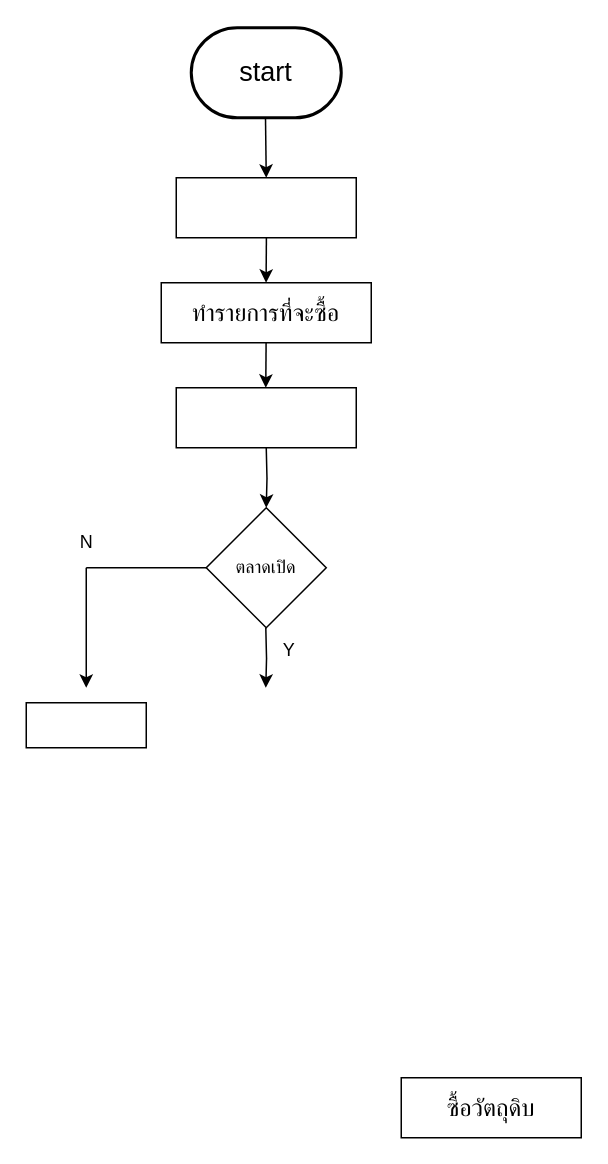
The diagram is 608 pixels wide and 1164 high, and some of its shapes have lost their labels. Here are the shapes that lost their labels. From the top down, the centre of each, then its label:
point 265,207: คิดเมนู
point 265,417: ไปตลาดหน้าบ้าน
